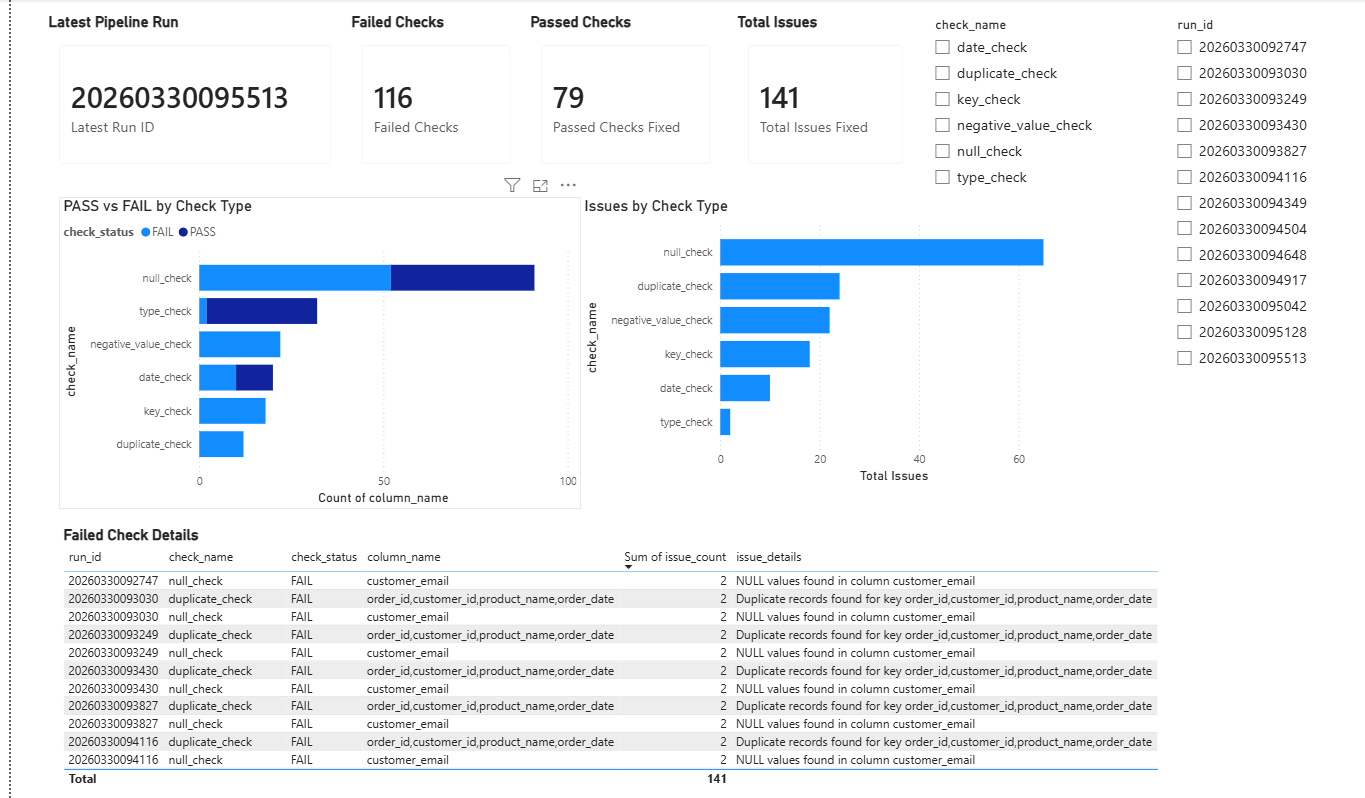

The dashboard page shown, as its layout file describes it:
{"tool":"powerbi","page":{"name":"Page 1","canvas":[1600,900],"ordinal":0},"visuals":[{"type":"cardVisual","title":"Latest Pipeline Run","fields":{"Data":["dq_monitoring vw_quality_status.Latest Run ID"]},"box":[36.9,15.7,339.2,186.9],"z":0},{"type":"cardVisual","title":"Failed Checks","fields":{"Data":["dq_monitoring vw_quality_status.Failed Checks"]},"box":[376.1,15.7,200.4,186.9],"z":1000},{"type":"cardVisual","title":"Passed Checks","fields":{"Data":["dq_monitoring vw_quality_status.Passed Checks Fixed"]},"box":[576.5,15.7,223.9,186.9],"z":2000},{"type":"cardVisual","title":"Total Issues","fields":{"Data":["dq_monitoring vw_quality_status.Total Issues Fixed"]},"box":[808.2,15.7,207.1,186.9],"z":3000},{"type":"barChart","title":"Issues by Check Type","fields":{"Category":["dq_monitoring vw_quality_status.check_name"],"Y":["dq_monitoring vw_quality_status.Total Issues"]},"box":[636.9,221.6,558.6,324.6],"z":4000},{"type":"barChart","title":"PASS vs FAIL by Check Type","fields":{"Series":["dq_monitoring vw_quality_status.check_status"],"Category":["dq_monitoring vw_quality_status.check_name"],"Y":["CountNonNull(dq_monitoring vw_quality_status.column_name)"]},"box":[53.7,221.6,584.3,349.3],"z":5000},{"type":"tableEx","title":"Failed Check Details","fields":{"Values":["dq_monitoring vw_quality_status.run_id","dq_monitoring vw_quality_status.check_name","dq_monitoring vw_quality_status.check_status","dq_monitoring vw_quality_status.column_name","Sum(dq_monitoring vw_quality_status.issue_count)","dq_monitoring vw_quality_status.issue_details"]},"box":[53.7,589.9,1529.1,296.6],"z":6000},{"type":"slicer","fields":{"Values":["dq_monitoring vw_quality_status.run_id"]},"box":[1292.9,15.7,197,410.8],"z":7000},{"type":"slicer","fields":{"Values":["dq_monitoring vw_quality_status.check_name"]},"box":[1022,15.7,227.2,251.9],"z":8000}]}

Visuals, with their boxes on the page's 1600x900 design canvas (x1, y1, x2, y2). These are canvas units, not pixel positions in the 1365x798 screenshot, which may show the page scaled, cropped or inside an application window:
"Latest Pipeline Run" cardVisual: region(37, 16, 376, 203)
"Failed Checks" cardVisual: region(376, 16, 576, 203)
"Passed Checks" cardVisual: region(576, 16, 800, 203)
"Total Issues" cardVisual: region(808, 16, 1015, 203)
"Issues by Check Type" barChart: region(637, 222, 1196, 546)
"PASS vs FAIL by Check Type" barChart: region(54, 222, 638, 571)
"Failed Check Details" tableEx: region(54, 590, 1583, 886)
slicer - dq_monitoring vw_quality_status.run_id: region(1293, 16, 1490, 426)
slicer - dq_monitoring vw_quality_status.check_name: region(1022, 16, 1249, 268)
